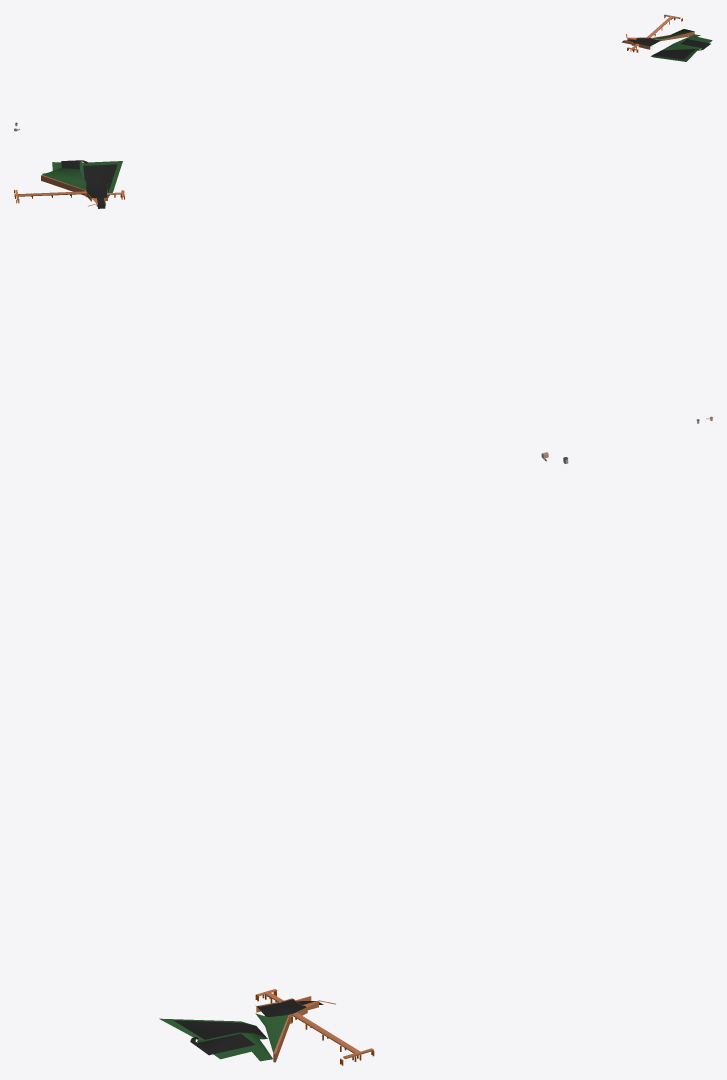
File: boatrampunfin.glb
3 renders of one model, top to bottom at view 1: azimuth 30°, elevation 25°; view 2: azimuth 150°, elevation 25°; view 3: azimuth 270°, elevation 25°, orthographic. The views are drawn at different scales.
Visible parts, largest first — view 1: Boat Launch.003, Boat Launch.002; view 2: Boat Launch.002, Boat Launch.003; view 3: Boat Launch.003, Boat Launch.002.
Part boxes in pixels (left/top/right/bottom): Boat Launch.003: left=651, top=34, right=712, bottom=61; Boat Launch.002: left=622, top=14, right=694, bottom=52; Boat Launch.002: left=14, top=168, right=124, bottom=208; Boat Launch.003: left=42, top=160, right=122, bottom=196; Boat Launch.003: left=159, top=1018, right=272, bottom=1061; Boat Launch.002: left=255, top=989, right=374, bottom=1065.
Bounding box in the file's own units: 1.95 × 0.0526 × 0.5596.
